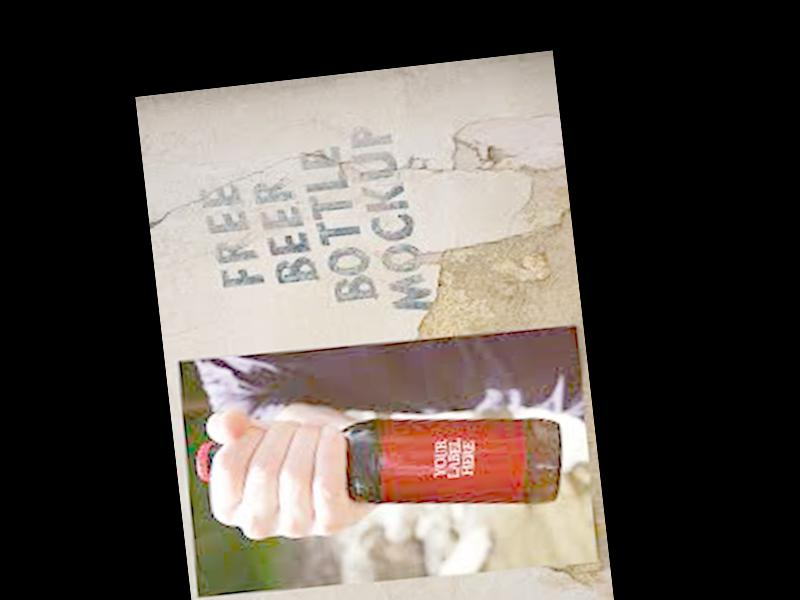Beer: (194, 401, 568, 541)
